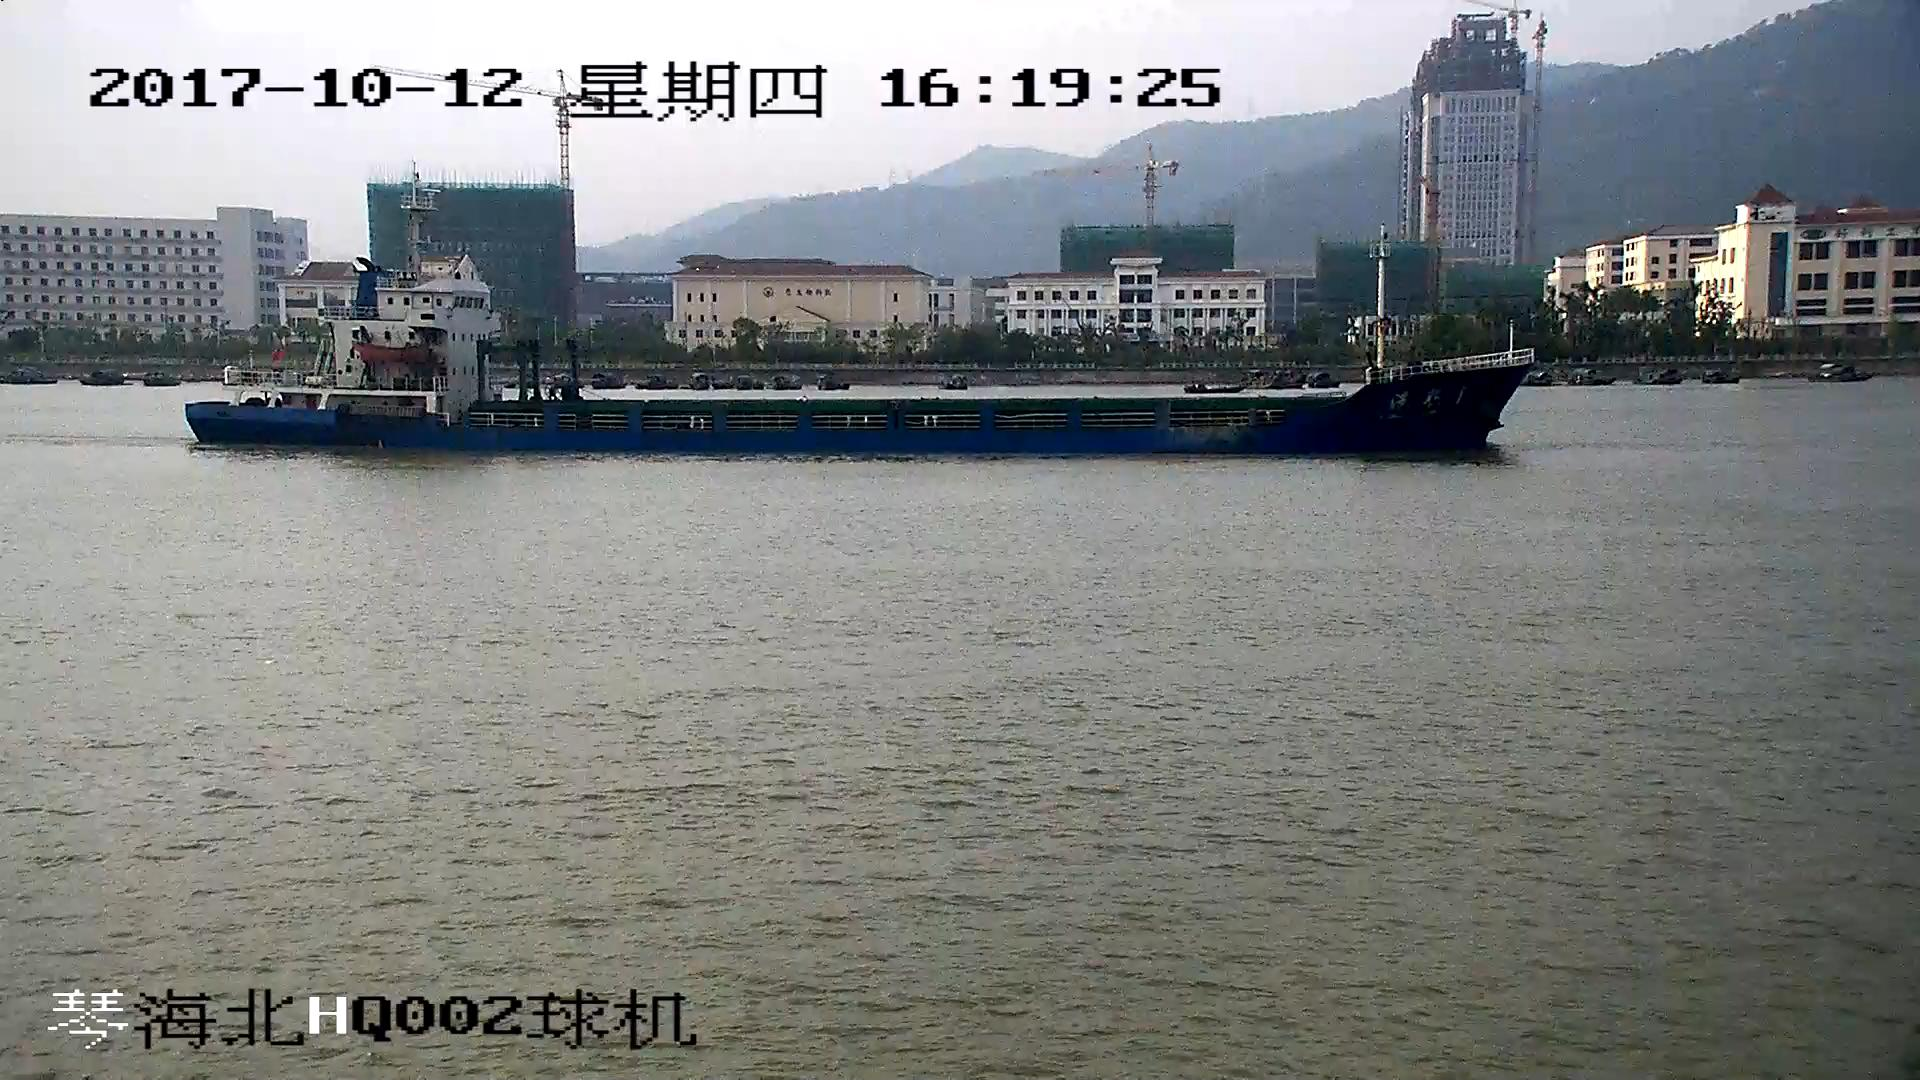general cargo ship: (182, 178, 1533, 462)
